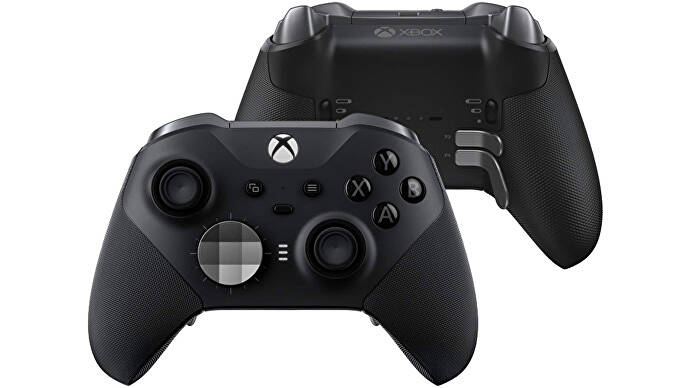controller: (87, 112, 480, 387), (235, 2, 603, 270)
